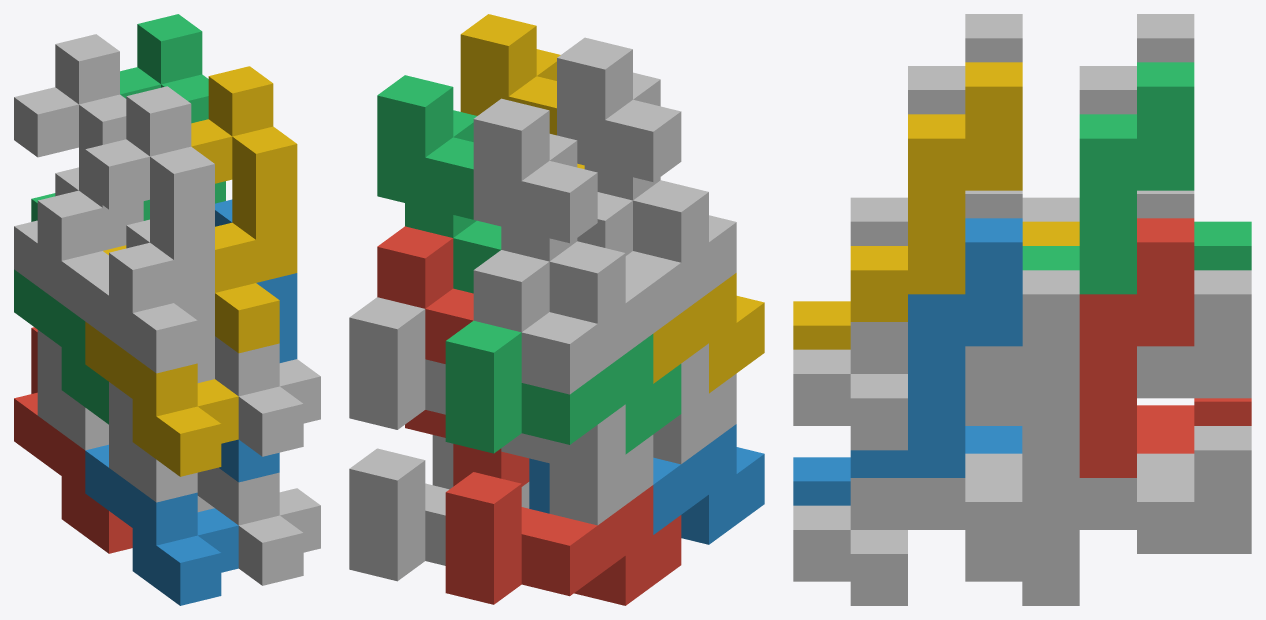
File: tiling.obj
3 views of the same model, side by side, from view 1: azimuth 30°, elevation 25°; view 2: azimuth 150°, elevation 25°; view 3: azimuth 270°, elevation 25° (orthographic). The views are drawn at different scales.
Visible parts, largest first — view 1: copy_2_domain_4, copy_2_domain_8, copy_2_domain_3, copy_1_domain_2, copy_1_domain_4, copy_1_domain_6, copy_1_domain_8, copy_2_domain_2, copy_1_domain_1, copy_2_domain_7, copy_2_domain_1, copy_1_domain_3 (+1 smaller); view 2: copy_2_domain_3, copy_2_domain_4, copy_1_domain_1, copy_2_domain_1, copy_1_domain_3, copy_2_domain_7, copy_1_domain_5, copy_2_domain_5, copy_2_domain_2, copy_1_domain_7, copy_1_domain_2, copy_2_domain_8 (+2 smaller); view 3: copy_1_domain_6, copy_1_domain_8, copy_2_domain_8, copy_1_domain_5, copy_2_domain_6, copy_2_domain_7, copy_2_domain_5, copy_1_domain_7, copy_2_domain_4, copy_2_domain_3, copy_1_domain_2, copy_1_domain_1 (+4 smaller).
Boxes of the visible parts, x1,y1,x2,y2 form: copy_2_domain_4: (85,86,214,373); copy_2_domain_8: (191,66,297,353); copy_2_domain_3: (14,34,143,320); copy_1_domain_2: (85,444,238,605); copy_1_domain_4: (85,245,238,476); copy_1_domain_6: (197,467,320,585); copy_1_domain_8: (215,336,320,456); copy_2_domain_2: (85,219,214,502); copy_1_domain_1: (14,327,132,553); copy_2_domain_7: (120,14,225,220); copy_2_domain_1: (14,167,108,450); copy_1_domain_3: (14,193,108,424); copy_2_domain_3: (473,98,653,373); copy_2_domain_4: (557,37,736,312); copy_1_domain_1: (445,472,681,605); copy_2_domain_1: (473,250,653,525); copy_1_domain_3: (445,320,681,454); copy_2_domain_7: (377,75,501,293); copy_1_domain_5: (349,448,529,581); copy_2_domain_5: (377,226,529,486); copy_2_domain_2: (577,192,736,464); copy_1_domain_7: (349,297,445,429); copy_1_domain_2: (529,424,764,544); copy_2_domain_8: (460,14,584,169); copy_1_domain_6: (793,450,1079,605); copy_1_domain_8: (793,270,1079,450); copy_2_domain_8: (850,62,1022,321); copy_1_domain_5: (965,426,1251,605); copy_2_domain_6: (850,218,1022,477); copy_2_domain_7: (1022,62,1194,294); copy_2_domain_5: (1079,218,1194,477); copy_1_domain_7: (965,270,1251,450); copy_2_domain_4: (850,14,1022,245); copy_2_domain_3: (1022,14,1194,221); copy_1_domain_2: (793,426,1022,505); copy_1_domain_1: (1137,398,1251,453).
Size of the model in its own units: 4 by 10 by 8.
